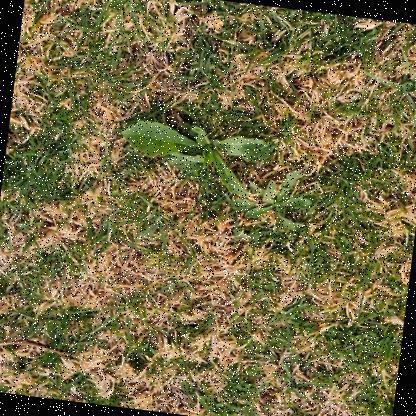Weeds: (115, 108, 277, 203), (227, 163, 317, 233)
